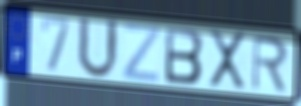7: (39, 15, 71, 75)
B: (164, 25, 205, 86)
R: (250, 34, 290, 94)
U: (75, 13, 120, 82)
X: (207, 28, 248, 91)
Z: (121, 21, 162, 84)
